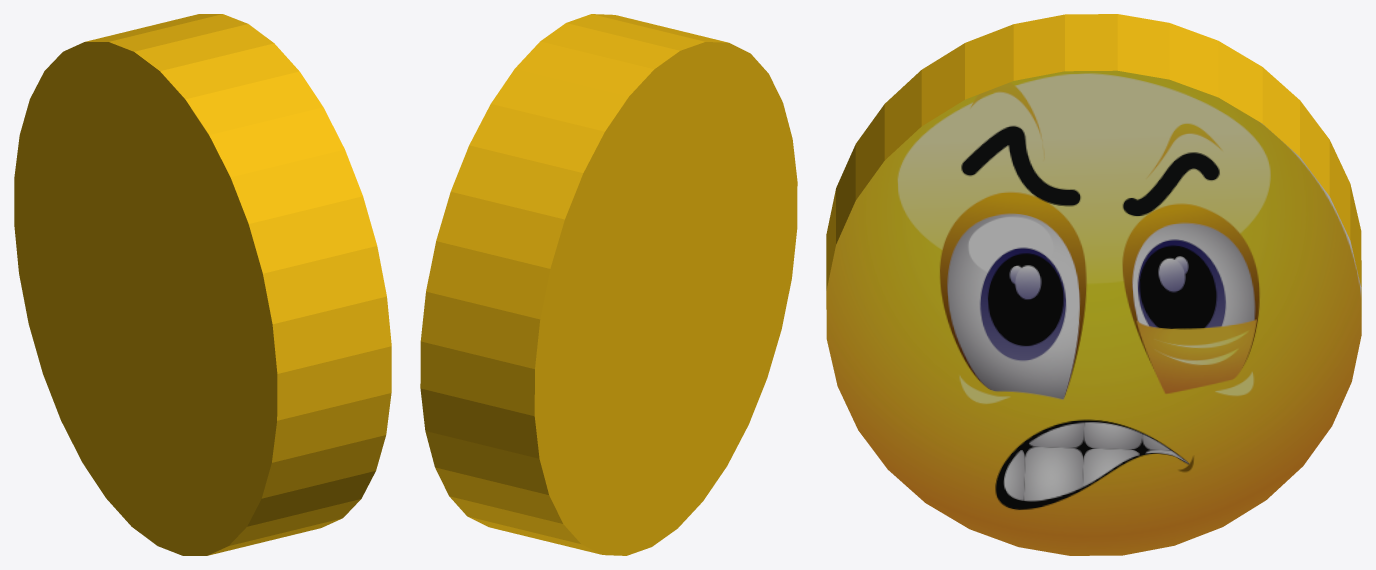
Rendered from frustration.gltf.
3 views of the same model, side by side, from view 1: azimuth 30°, elevation 25°; view 2: azimuth 150°, elevation 25°; view 3: azimuth 270°, elevation 25° (orthographic).
Parts seen in each view (by area): view 1: Cylinder; view 2: Cylinder; view 3: Cylinder.
Boxes of the visible parts, box(x1,y1,x2,y2) form: Cylinder: box(14, 14, 391, 555); Cylinder: box(420, 14, 797, 555); Cylinder: box(826, 14, 1361, 555).
Bounding box in the file's own units: 0.5 × 1.99 × 1.99.
Materials: 2 (2 with a texture image).
